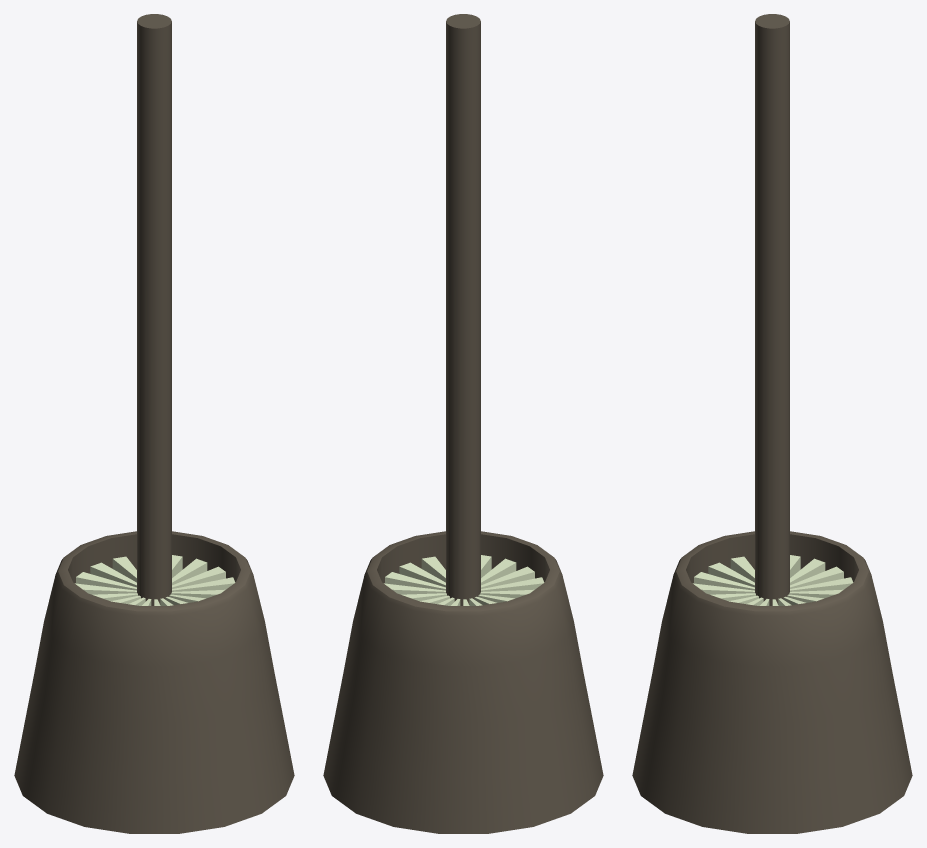
Rendered from Brosse de Toilette.fbx.
3 views of the same model, side by side, from view 1: azimuth 30°, elevation 25°; view 2: azimuth 150°, elevation 25°; view 3: azimuth 270°, elevation 25° (orthographic).
Parts seen in each view (by area): view 1: Cylinder; view 2: Cylinder; view 3: Cylinder.
Part boxes in pixels (x1=…): Cylinder: x1=14, y1=14, x2=294, y2=833; Cylinder: x1=323, y1=14, x2=603, y2=833; Cylinder: x1=632, y1=14, x2=912, y2=833.
Bounding box in the file's own units: 33.15 × 100 × 33.67.
